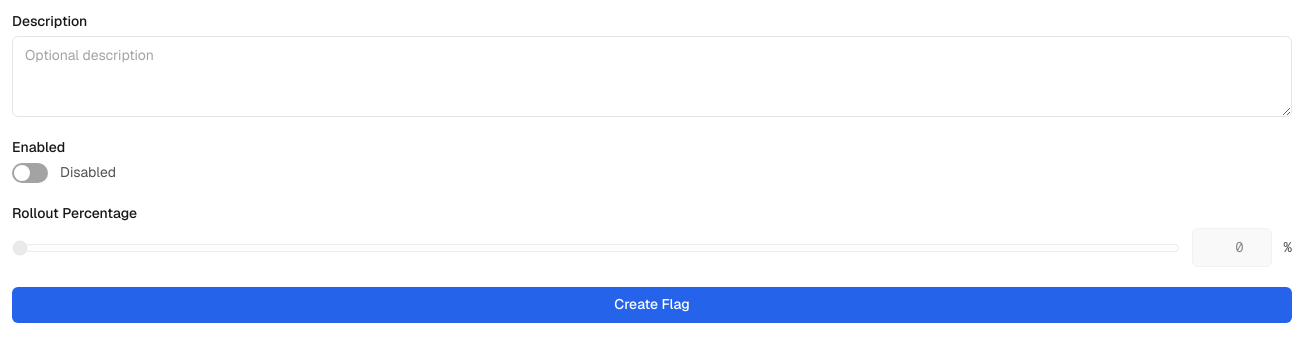
Test case: FlagForm › rollout sync › syncs number input to slider when typing
// Enable the flag first so rollout inputs are not disabled
Click the switch.
click(30, 172)  # box [12, 162, 48, 182]
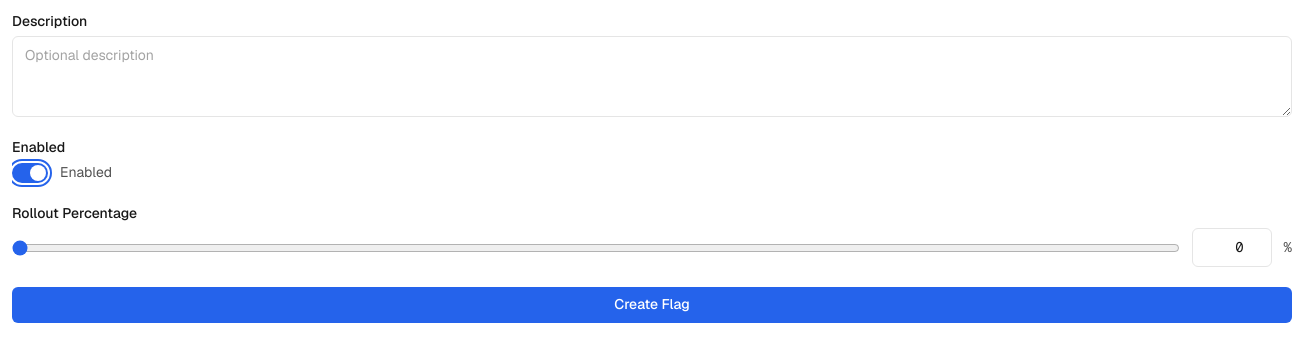
Replace the text in the number field named "Rollout percentage" with "75" at (1232, 248), box [1192, 228, 1272, 267]
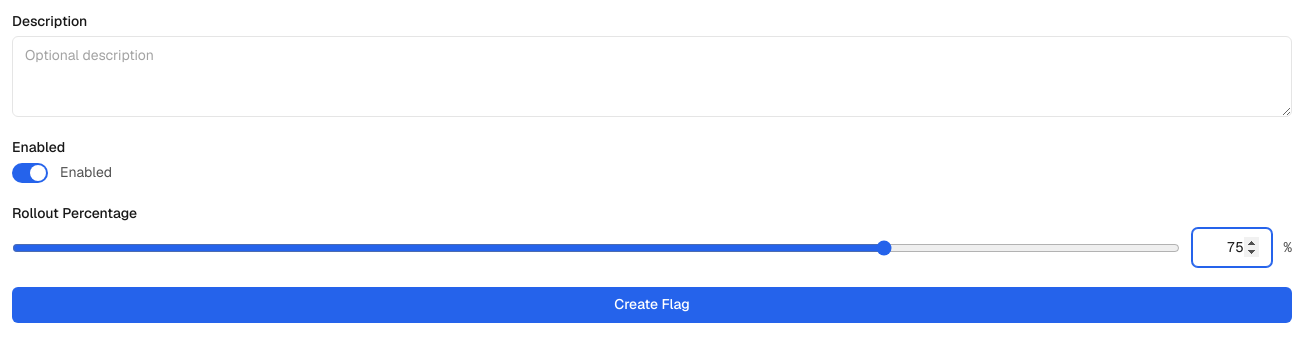
Expected: the slider named "Rollout slider" holds "75", [12, 240, 1180, 256]
